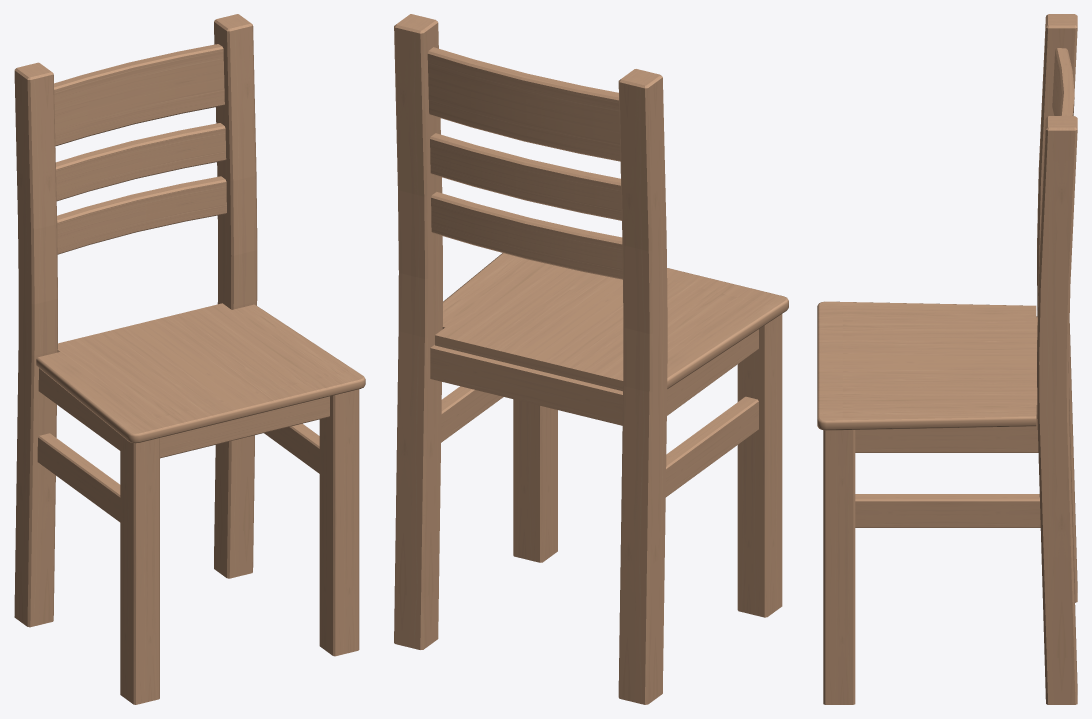
File: chair_1.glb
3 renders of one model, left to right at view 1: azimuth 30°, elevation 25°; view 2: azimuth 150°, elevation 25°; view 3: azimuth 270°, elevation 25°, orthographic. The views are drawn at different scales.
Visible parts, largest first — view 1: chair 1; view 2: chair 1; view 3: chair 1.
Part boxes in pixels (bbox=[...]): chair 1: bbox=[14, 14, 365, 704]; chair 1: bbox=[394, 14, 788, 704]; chair 1: bbox=[817, 14, 1077, 704].
Size of the model in its own units: 0.9 by 2 by 0.8194.
Materials: 1 (1 with a texture image).
